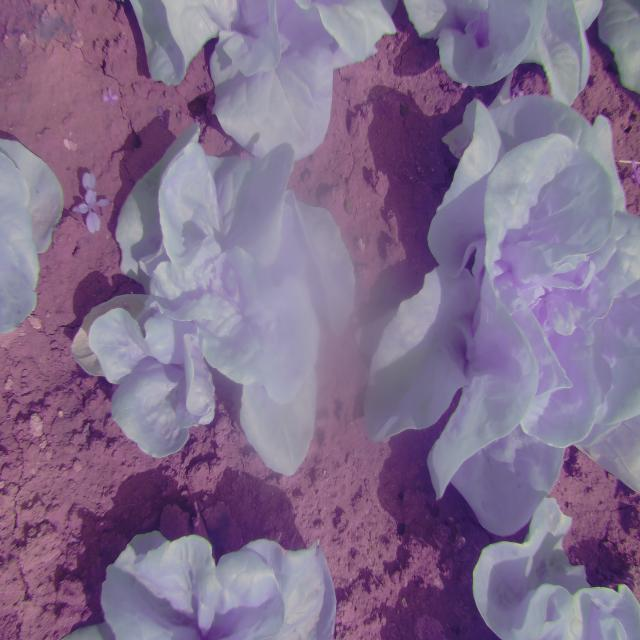vege: (88, 132, 358, 476)
